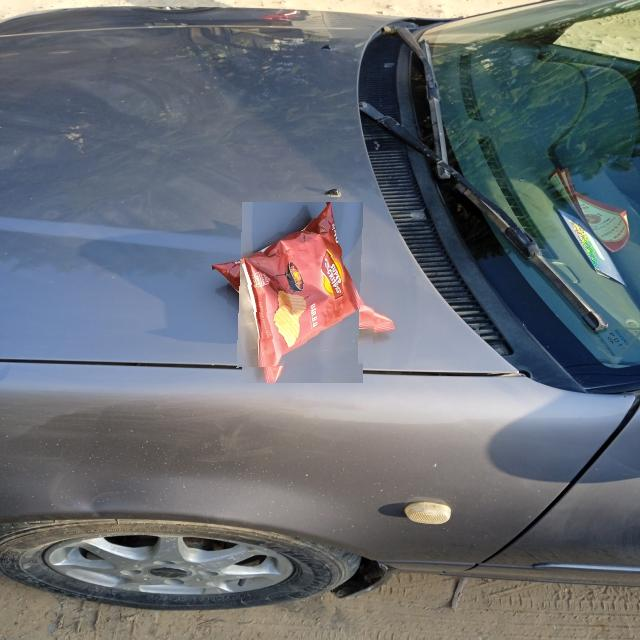Plastic: (227, 218, 378, 368)
